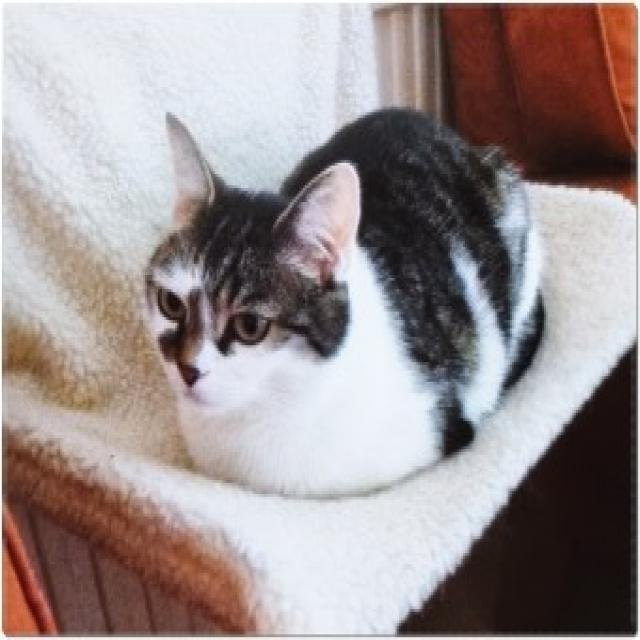cat: (145, 100, 560, 498)
